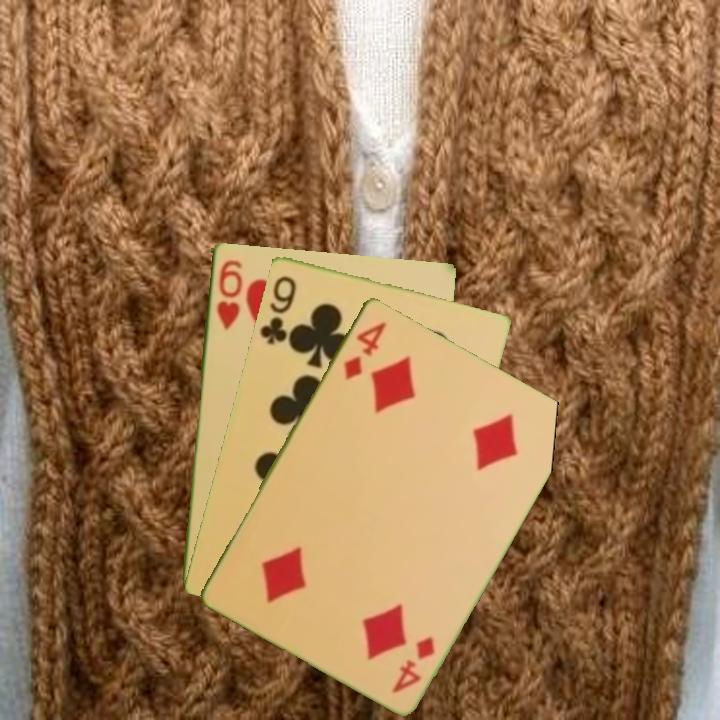4d: (339, 317, 389, 383), (388, 632, 438, 696)
6h: (213, 256, 245, 332)
9c: (256, 271, 299, 347)
